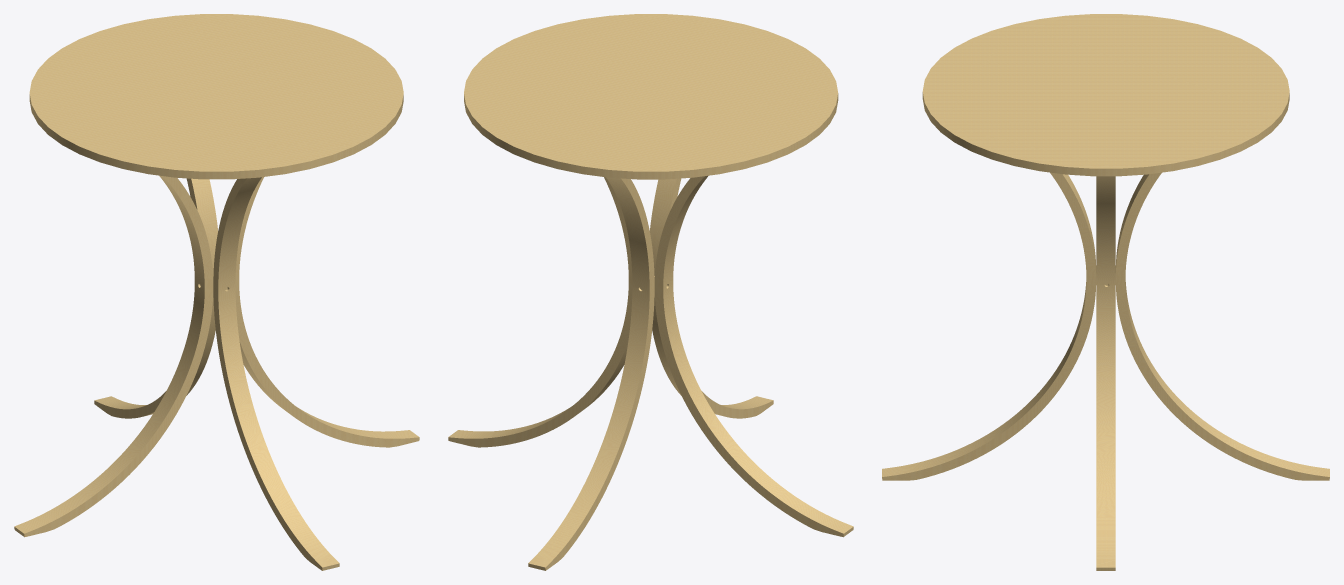
The model's file is IKEA-Fornbro_pedestal_table-3D.FBX.
3 views of the same model, side by side, from view 1: azimuth 30°, elevation 25°; view 2: azimuth 150°, elevation 25°; view 3: azimuth 270°, elevation 25° (orthographic).
Parts seen in each view (by area): view 1: Loft03; view 2: Loft03; view 3: Loft03.
Boxes of the visible parts, x1,y1,x2,y2 form: Loft03: [14, 14, 419, 570]; Loft03: [448, 14, 853, 570]; Loft03: [882, 14, 1329, 570].
Size of the model in its own units: 0.5446 by 0.5446 by 0.5167.
1 material, 1 textured.
